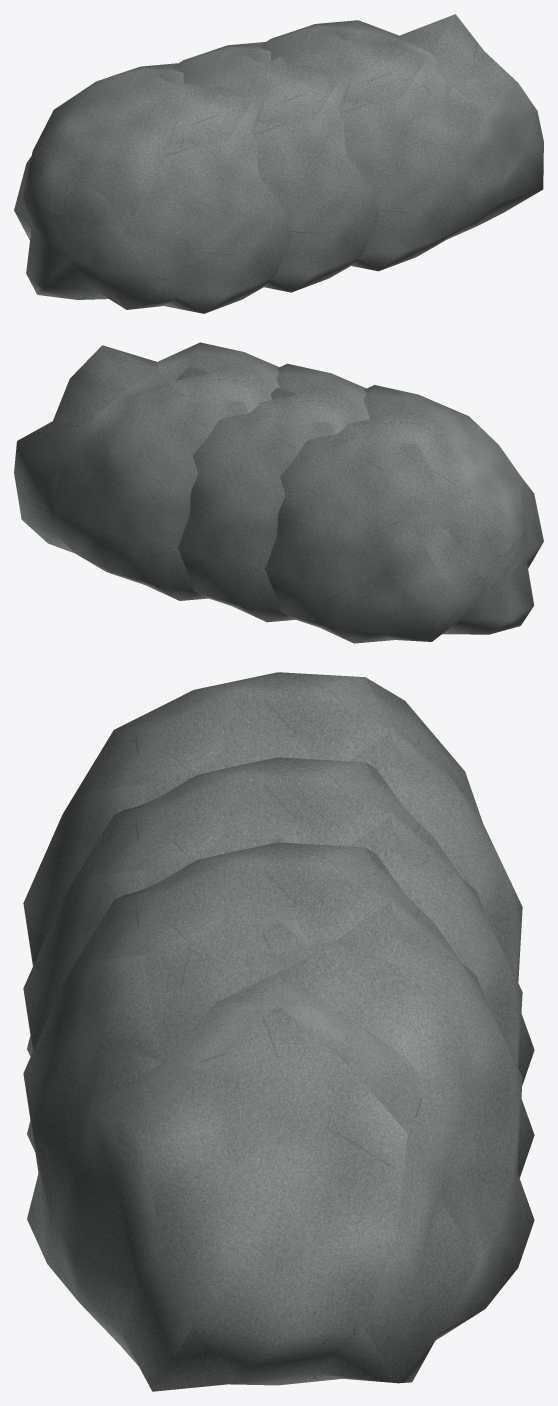
The model's file is rock-face.glb.
3 renders of one model, top to bottom at view 1: azimuth 30°, elevation 25°; view 2: azimuth 150°, elevation 25°; view 3: azimuth 270°, elevation 25°, orthographic. The views are drawn at different scales.
Visible parts, largest first — view 1: Weathered granite; view 2: Weathered granite; view 3: Weathered granite.
Boxes of the visible parts, left/top/right/bottom form: Weathered granite: left=14, top=14, right=543, bottom=313; Weathered granite: left=14, top=342, right=543, bottom=643; Weathered granite: left=23, top=672, right=534, bottom=1391.
Size of the model in its own units: 16.8 by 6.07 by 7.36.
Materials: 1 (1 with a texture image).
